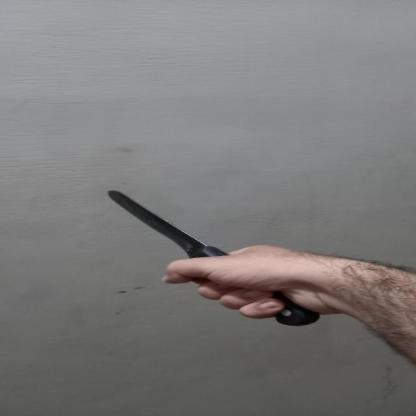Knife: (102, 189, 314, 328)
